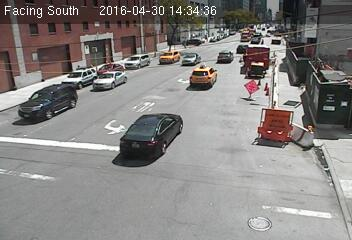neg: (284, 72, 321, 120), (279, 144, 313, 190), (208, 73, 239, 115), (29, 173, 60, 215), (66, 131, 96, 171), (106, 57, 135, 95), (163, 127, 190, 163), (205, 162, 231, 197), (249, 103, 274, 136), (237, 164, 262, 196), (49, 81, 73, 113), (176, 65, 197, 93), (122, 146, 142, 172), (270, 34, 288, 58)
